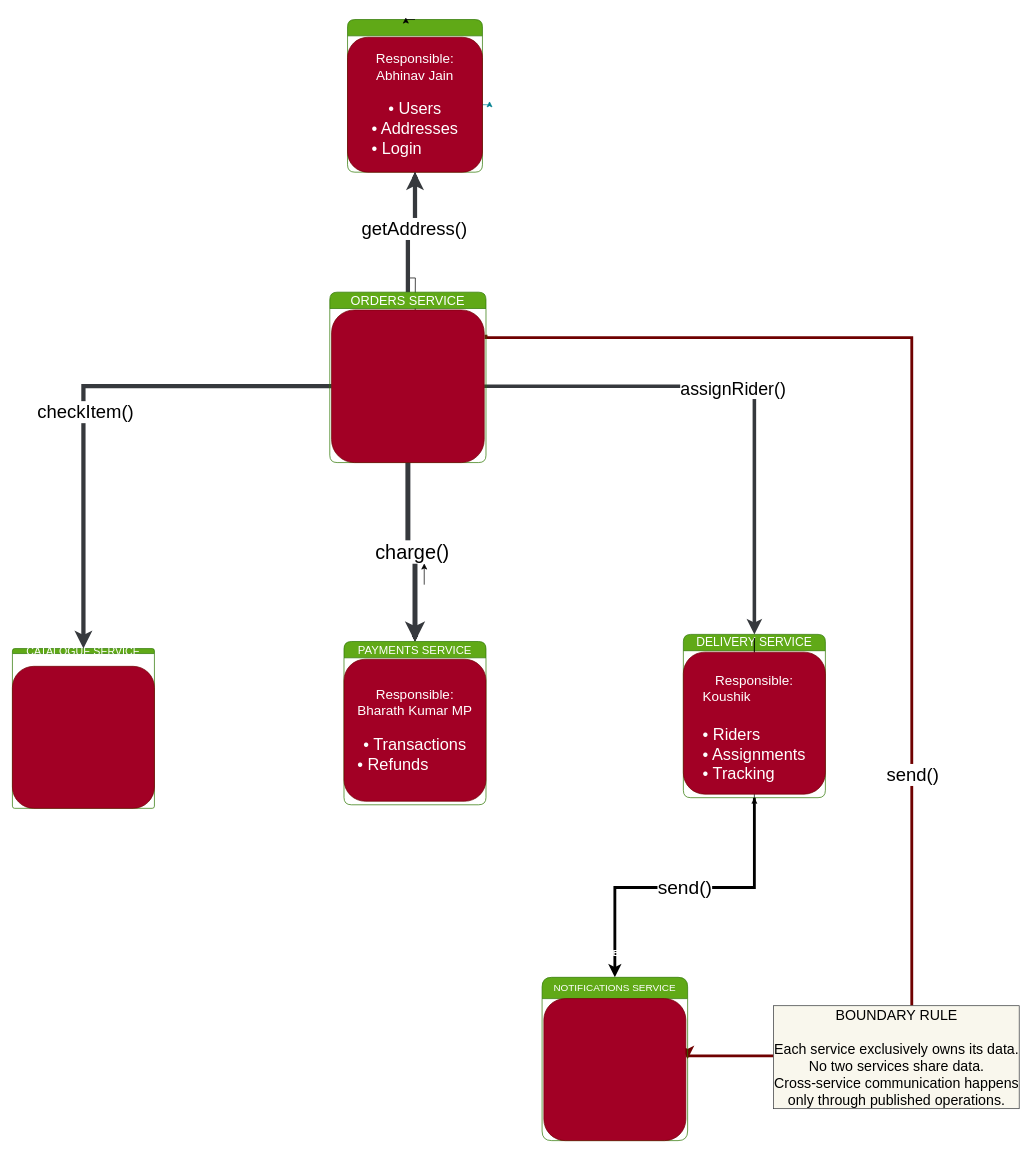
This 1032x1154 diagram has some shape labels left out. Here are the shapes that lost their labels. From the top down, the box of each, then its label:
(347, 19, 482, 172): ACCOUNTS SERVICE
(331, 309, 484, 463): Responsible: Ayush Dubey • Carts • Orders • Order Status
(12, 666, 154, 808): Responsible: Anuj • Restaurants • Menus • Prices
(543, 998, 686, 1141): Responsible: Ayush Message Log
